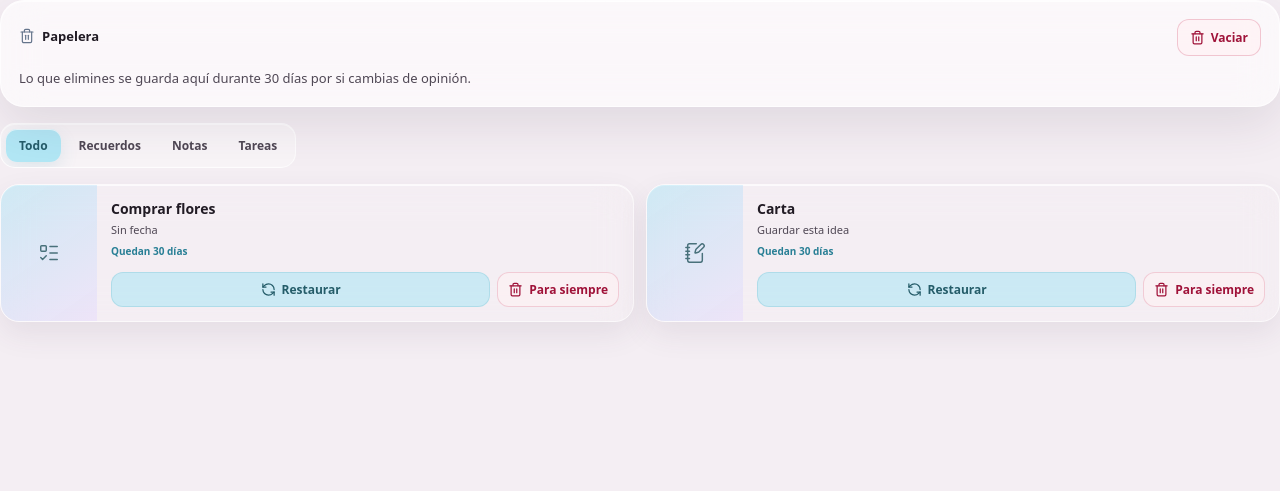
it: Papelera › filtra, restaura y elimina definitivamente
Expected: the text "Comprar flores" is shown, [111,199,215,218]
Expected: the text "Carta" is shown, [757,199,795,218]
Step 1. Click the tab "Tareas" → (258, 146), box [226,129,290,162]
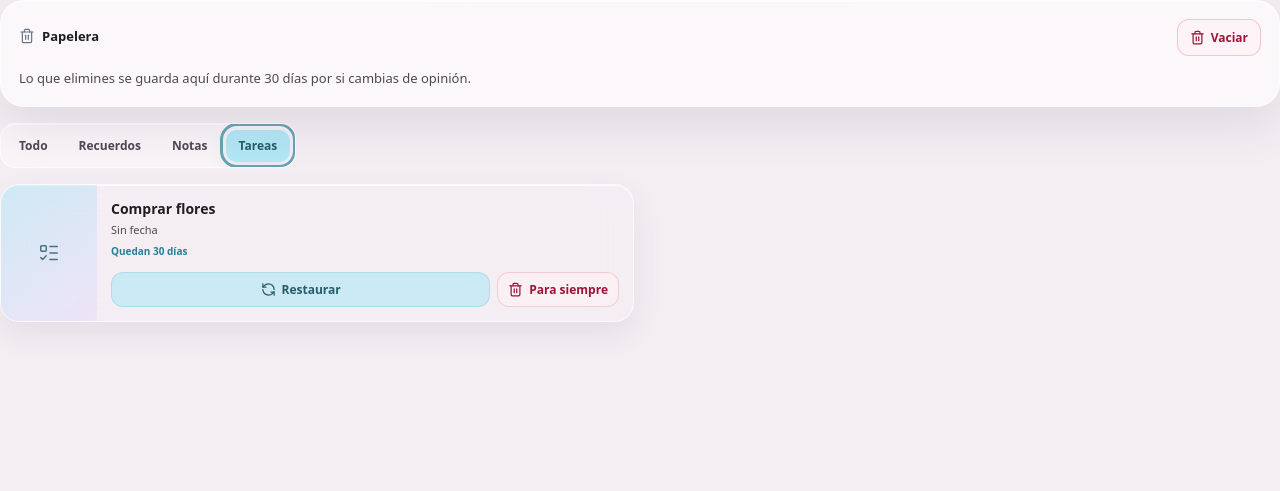
Expected: the text "Comprar flores" is shown, [111,199,215,218]
Expected: the text "Carta" is gone
Step 2. Click the button "Restaurar" → (301, 290), box [111,272,490,307]
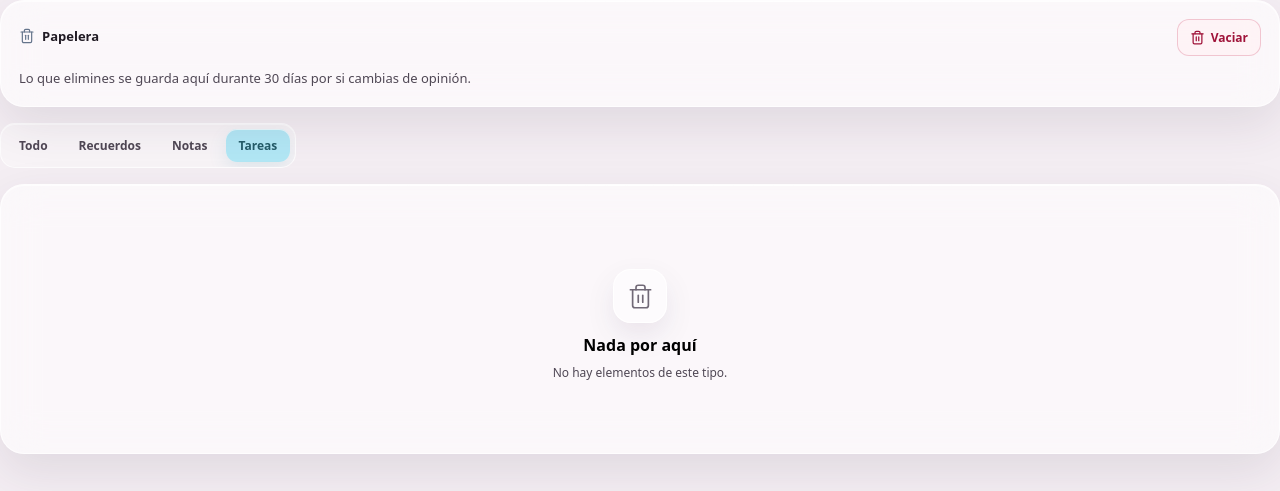
Expected: the text "Comprar flores" is gone
Step 3. Click the tab "Notas" → (190, 146), box [159,129,220,162]
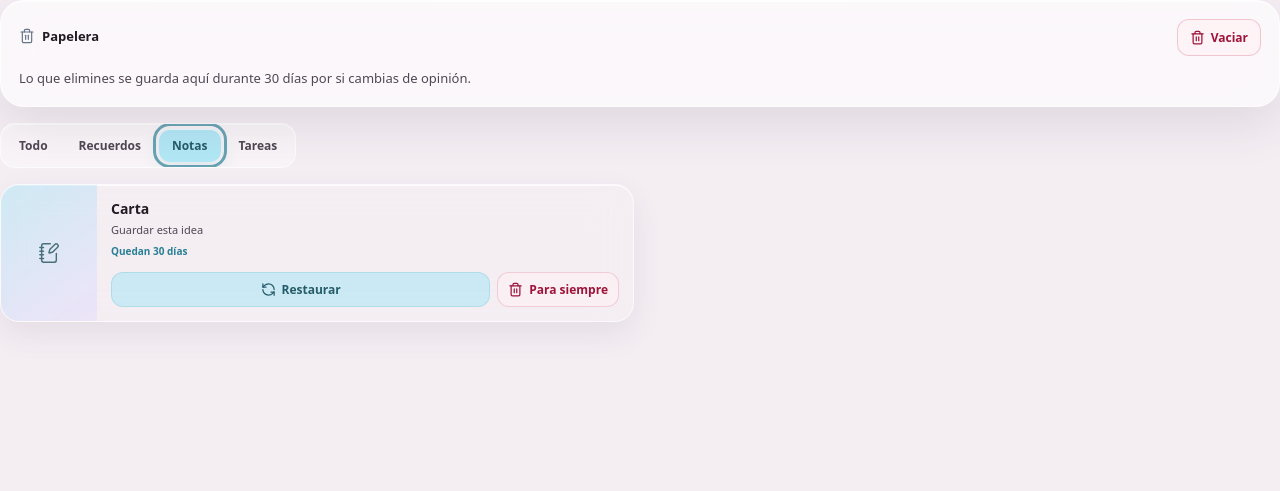
Step 4. Click the button with aria-label "Eliminar Carta para siempre" → (558, 290), box [497,272,619,307]
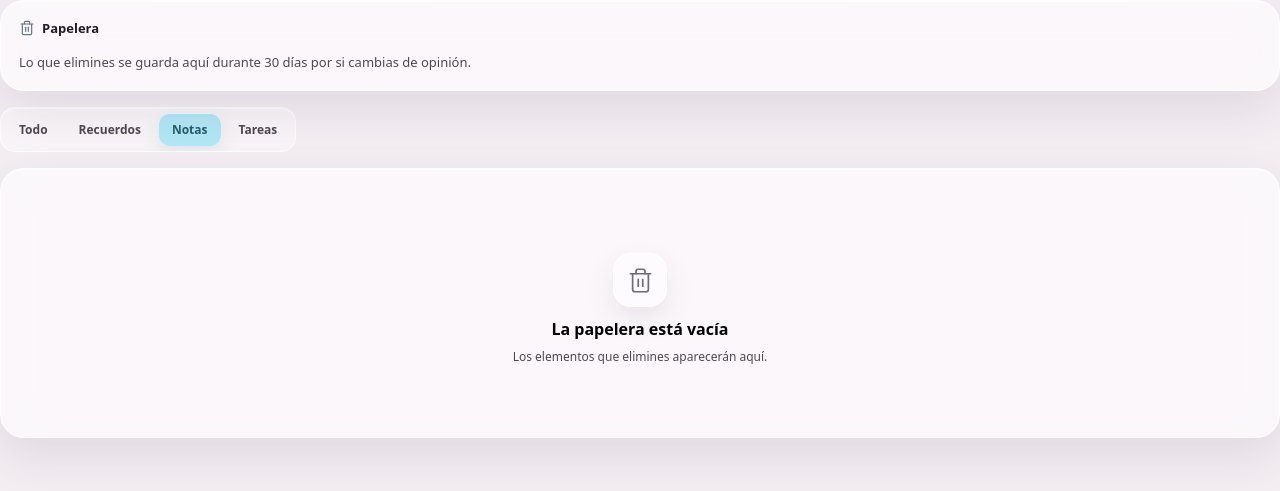
Expected: the text "La papelera está vacía" is shown, [552,318,729,340]
